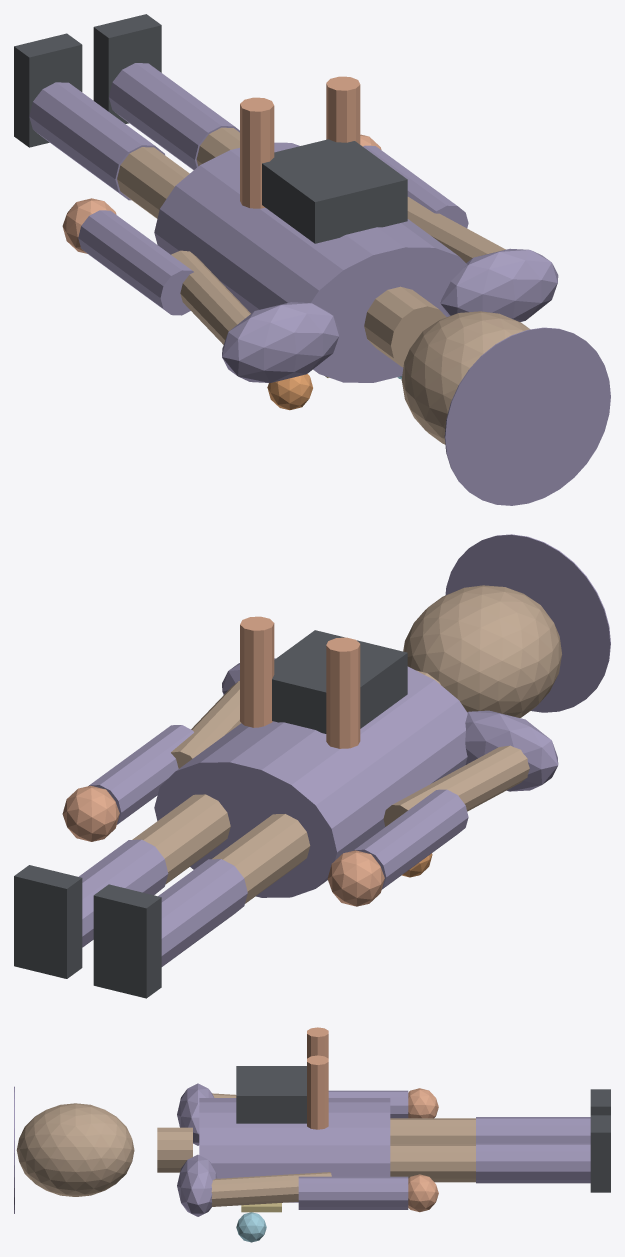
The model's file is SWN-042_lyra_stormhall.glb.
3 views of the same model, one above another, from view 1: azimuth 30°, elevation 25°; view 2: azimuth 150°, elevation 25°; view 3: azimuth 270°, elevation 25° (orthographic). The views are drawn at different scales.
Parts seen in each view (by area): view 1: body_spine, rank_halo_ring, back_thruster_pack, head, shoulder_plate_-1, greave_-1, greave_1, shoulder_plate_1, forearm_gauntlet_-1, boot_-1, boot_1, neck (+9 smaller); view 2: body_spine, head, rank_halo_ring, back_thruster_pack, boot_1, boot_-1, greave_-1, forearm_gauntlet_-1, thigh_1, thigh_-1, forearm_gauntlet_1, shoulder_plate_-1 (+7 smaller); view 3: body_spine, head, greave_1, back_thruster_pack, forearm_gauntlet_1, thigh_1, greave_-1, upper_arm_1, thigh_-1, shoulder_plate_1, boot_1, aether_thruster_1 (+9 smaller).
Boxes of the visible parts, <box> form: body_spine: <box>154,142,467,382</box>; rank_halo_ring: <box>444,327,610,505</box>; back_thruster_pack: <box>262,139,407,243</box>; head: <box>401,311,529,444</box>; shoulder_plate_-1: <box>222,302,339,382</box>; greave_-1: <box>29,82,164,200</box>; greave_1: <box>109,63,239,170</box>; shoulder_plate_1: <box>440,248,558,321</box>; forearm_gauntlet_-1: <box>78,210,193,315</box>; boot_-1: <box>14,33,82,147</box>; boot_1: <box>93,14,161,123</box>; neck: <box>364,286,446,367</box>; body_spine: <box>154,666,467,897</box>; head: <box>403,585,561,717</box>; rank_halo_ring: <box>445,534,610,712</box>; back_thruster_pack: <box>272,630,407,733</box>; boot_1: <box>14,865,82,978</box>; boot_-1: <box>93,884,161,998</box>; greave_-1: <box>158,859,247,966</box>; forearm_gauntlet_-1: <box>353,789,468,889</box>; thigh_1: <box>132,794,230,884</box>; thigh_-1: <box>212,814,310,903</box>; forearm_gauntlet_1: <box>88,725,193,824</box>; shoulder_plate_-1: <box>465,710,558,791</box>; body_spine: <box>199,1098,390,1202</box>; head: <box>16,1103,134,1196</box>; greave_1: <box>476,1143,590,1183</box>; back_thruster_pack: <box>236,1066,306,1123</box>; forearm_gauntlet_1: <box>298,1176,408,1209</box>; thigh_1: <box>390,1144,475,1182</box>; greave_-1: <box>476,1117,590,1142</box>; upper_arm_1: <box>211,1172,331,1206</box>; thigh_-1: <box>390,1118,475,1143</box>; shoulder_plate_1: <box>177,1154,217,1216</box>; boot_1: <box>590,1115,610,1192</box>; aether_thruster_1: <box>307,1055,328,1129</box>.
Bounding box in the file's own units: 1.02 × 0.76 × 2.34.
